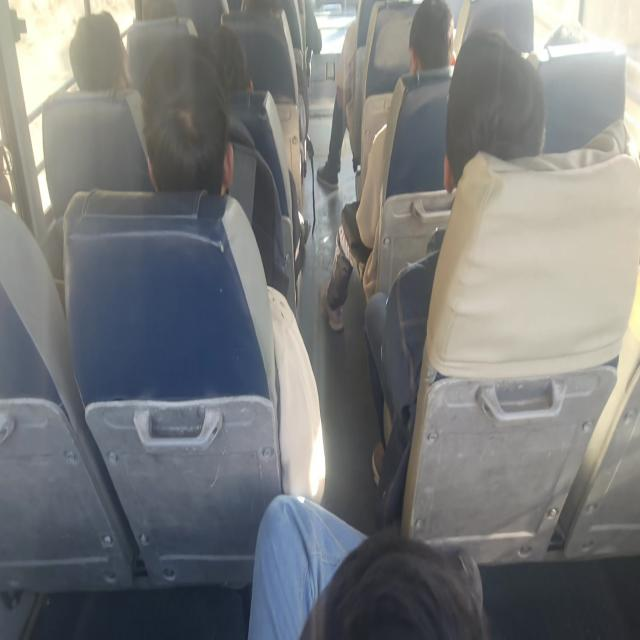person: (140, 35, 326, 501), (364, 28, 546, 498), (319, 0, 456, 331), (140, 35, 289, 303), (247, 492, 487, 638), (316, 0, 417, 190), (140, 35, 235, 196), (68, 10, 150, 158), (316, 16, 358, 190), (69, 10, 131, 91)
